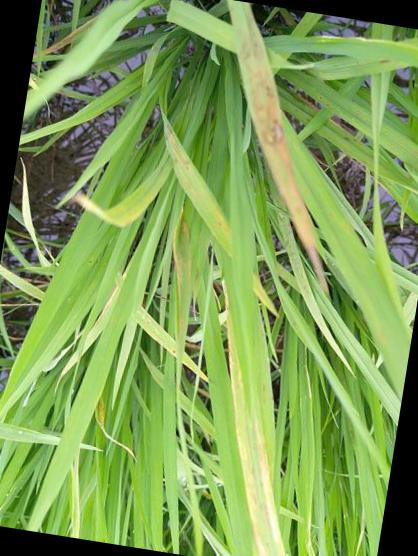Leaf Streak: (234, 27, 328, 296), (227, 312, 277, 556), (160, 109, 232, 250), (171, 196, 191, 317)
